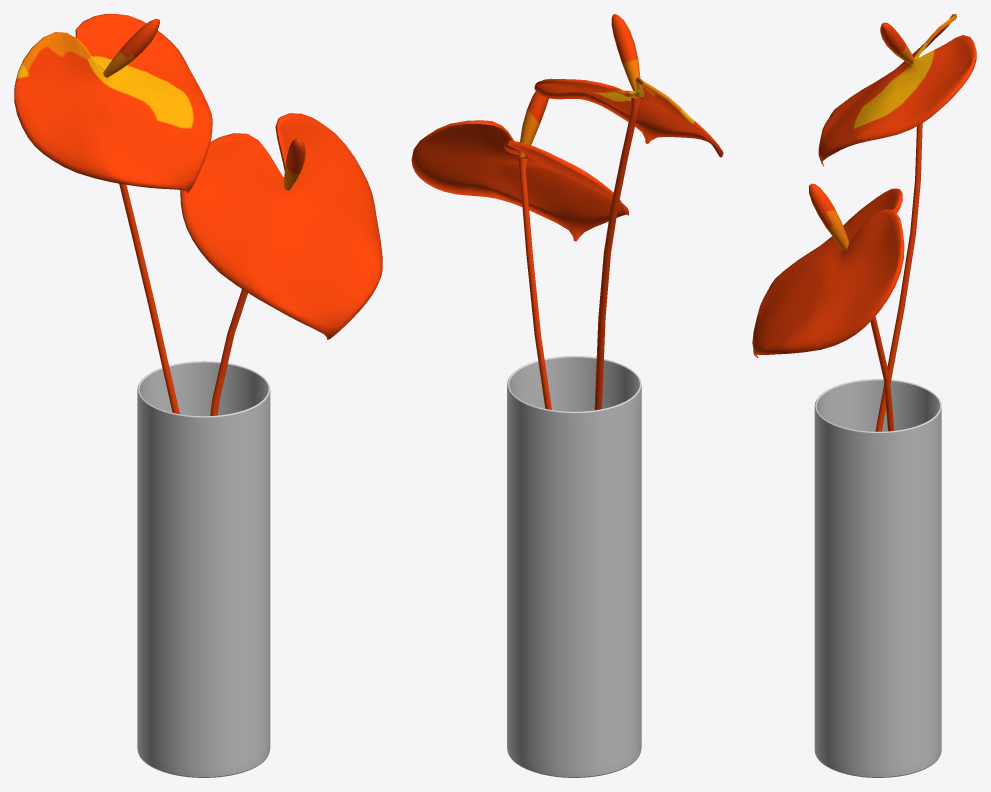
File: ans.gltf
The picture shows the model from 3 angles, left to right: view 1: azimuth 30°, elevation 25°; view 2: azimuth 150°, elevation 25°; view 3: azimuth 270°, elevation 25°; orthographic projection. The views are drawn at different scales.
Visible parts, largest first — view 1: b_vase_2_170 2, anthurium_01, anthurium_02, anthurium_stem_002, anthurium_03, anthurium_stem_001, anthurium_04; view 2: b_vase_2_170 2, anthurium_01, anthurium_02, anthurium_stem_002, anthurium_stem_001, anthurium_03, anthurium_04; view 3: b_vase_2_170 2, anthurium_01, anthurium_02, anthurium_stem_002, anthurium_04, anthurium_stem_001, anthurium_03.
Part boxes in pixels (<box>): b_vase_2_170 2: <box>137,361,270,777</box>; anthurium_01: <box>180,113,382,339</box>; anthurium_02: <box>14,14,212,192</box>; anthurium_stem_002: <box>119,183,179,414</box>; anthurium_03: <box>103,19,160,77</box>; anthurium_stem_001: <box>210,289,247,415</box>; anthurium_04: <box>284,138,305,190</box>; b_vase_2_170 2: <box>507,356,641,777</box>; anthurium_01: <box>411,120,628,241</box>; anthurium_02: <box>534,77,723,157</box>; anthurium_stem_002: <box>594,96,642,410</box>; anthurium_stem_001: <box>518,157,551,409</box>; anthurium_03: <box>611,14,640,91</box>; anthurium_04: <box>518,91,548,157</box>; b_vase_2_170 2: <box>814,379,941,777</box>; anthurium_01: <box>752,188,904,357</box>; anthurium_02: <box>818,14,976,166</box>; anthurium_stem_002: <box>875,123,922,431</box>; anthurium_04: <box>809,183,848,251</box>; anthurium_stem_001: <box>870,316,894,431</box>; anthurium_03: <box>880,22,914,64</box>.
Bounding box in the file's own units: 0.1223 × 0.2679 × 0.0769.
